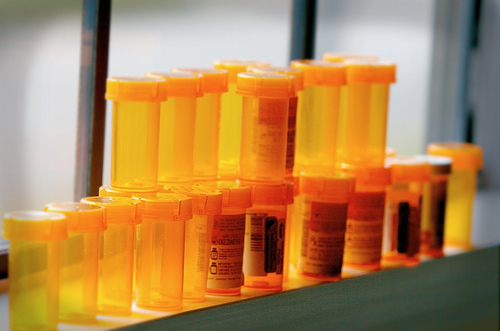pill bottle: (103, 74, 171, 197), (4, 208, 68, 331), (295, 171, 355, 284), (235, 72, 293, 185)
